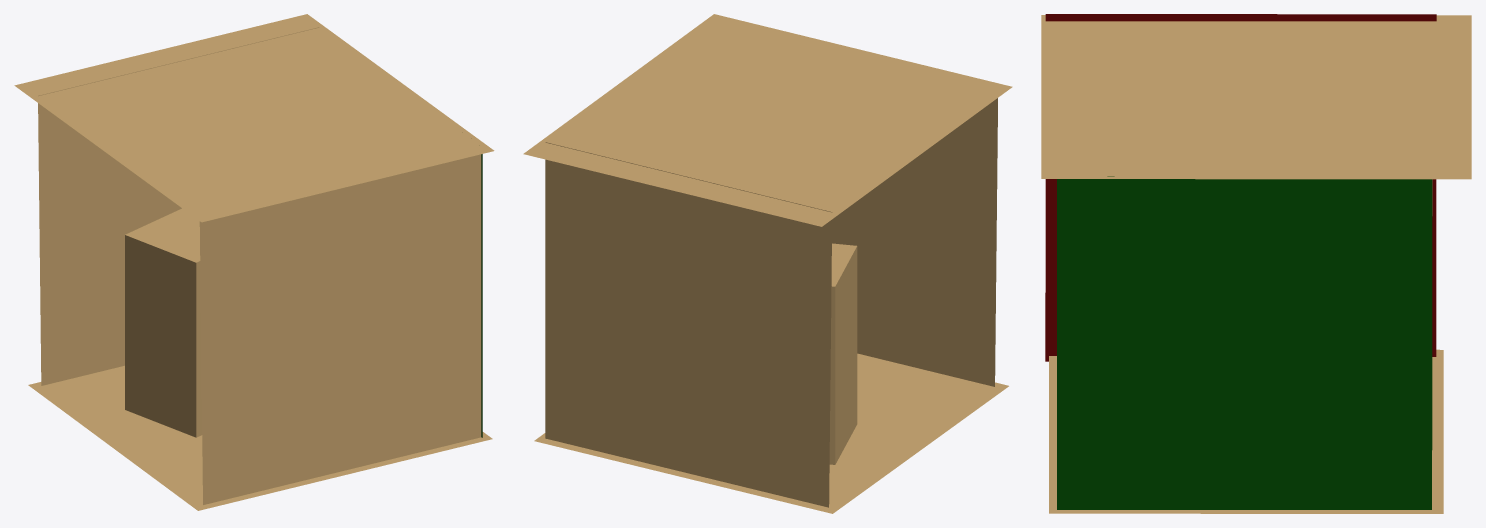
Rendered from cornellBox.obj.
The picture shows the model from 3 angles, left to right: view 1: azimuth 30°, elevation 25°; view 2: azimuth 150°, elevation 25°; view 3: azimuth 270°, elevation 25°; orthographic projection. The views are drawn at different scales.
Parts seen in each view (by area): view 1: back_wall, ceiling, back_wall.001, tall_box, floor, right_wall; view 2: back_wall.001, ceiling, back_wall, floor, tall_box; view 3: right_wall, ceiling, left_wall, floor.
Part boxes in pixels (left/top/right/bottom): back_wall: left=199, top=154, right=481, bottom=504; ceiling: left=14, top=14, right=494, bottom=222; back_wall.001: left=38, top=27, right=319, bottom=385; tall_box: left=125, top=208, right=202, bottom=437; floor: left=28, top=365, right=492, bottom=510; right_wall: left=481, top=154, right=482, bottom=437; back_wall.001: left=545, top=142, right=832, bottom=507; ceiling: left=523, top=14, right=1012, bottom=226; back_wall: left=832, top=98, right=997, bottom=386; floor: left=534, top=353, right=1008, bottom=513; tall_box: left=829, top=243, right=857, bottom=464; right_wall: left=1057, top=176, right=1432, bottom=509; ceiling: left=1041, top=15, right=1471, bottom=179; left_wall: left=1045, top=14, right=1436, bottom=361; floor: left=1049, top=349, right=1443, bottom=513.
Bounding box in the file's own units: 5.82 × 5.7 × 6.41.
